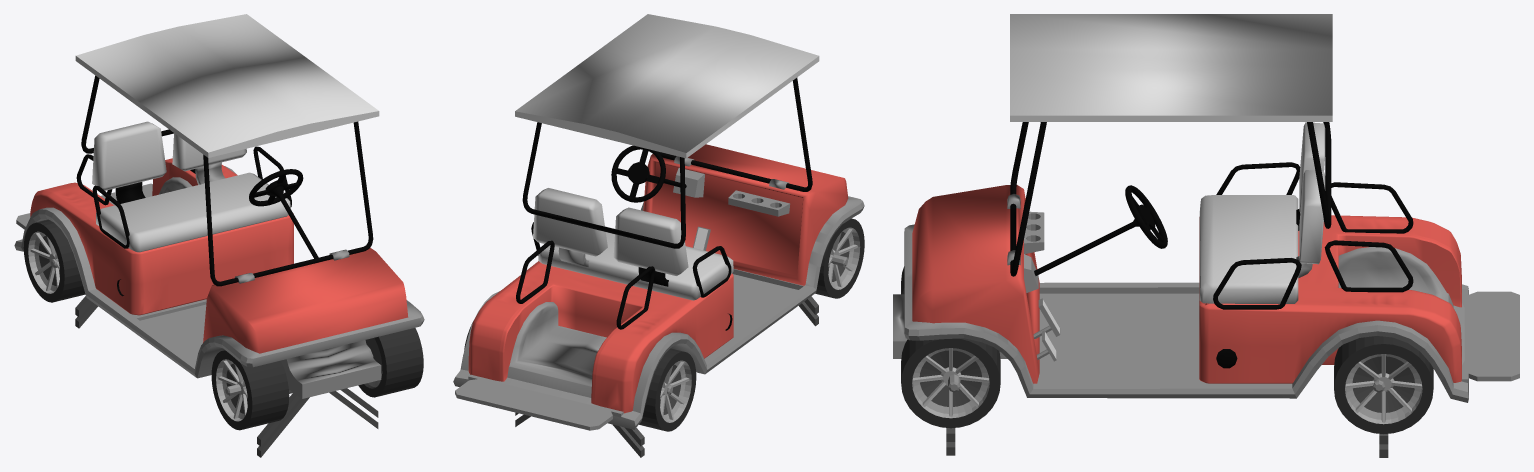
Rendered from car.glb.
3 views of the same model, side by side, from view 1: azimuth 30°, elevation 25°; view 2: azimuth 150°, elevation 25°; view 3: azimuth 270°, elevation 25° (orthographic). The views are drawn at different scales.
Visible parts, largest first — view 1: Cart 1_Material.001_0, Cart 1_White Material_0, Cart 1_Black Material 2_0, Cart 1_leather_0, Cart 1_Black Material_0, WheelFR, WheelBR, WheelFL, SuspensionFR, SuspensionFL, SuspensionBR; view 2: Cart 1_Material.001_0, Cart 1_White Material_0, Cart 1_Black Material 2_0, Cart 1_leather_0, Cart 1_Black Material_0, WheelBR, WheelFR, SuspensionBR; view 3: Cart 1_Black Material 2_0, Cart 1_Material.001_0, Cart 1_White Material_0, Cart 1_leather_0, Cart 1_Black Material_0, WheelBL, WheelFL.
Boxes of the visible parts, bbox=[...] form: Cart 1_Material.001_0: bbox=[30, 158, 408, 353]; Cart 1_White Material_0: bbox=[75, 14, 379, 157]; Cart 1_Black Material 2_0: bbox=[14, 162, 424, 398]; Cart 1_leather_0: bbox=[92, 121, 290, 252]; Cart 1_Black Material_0: bbox=[76, 75, 373, 296]; WheelFR: bbox=[211, 350, 289, 430]; WheelBR: bbox=[23, 219, 85, 302]; WheelFL: bbox=[358, 328, 423, 397]; SuspensionFR: bbox=[257, 393, 309, 457]; SuspensionFL: bbox=[329, 388, 378, 428]; SuspensionBR: bbox=[75, 296, 97, 328]; Cart 1_Material.001_0: bbox=[468, 144, 848, 413]; Cart 1_White Material_0: bbox=[515, 14, 819, 158]; Cart 1_Black Material 2_0: bbox=[453, 156, 864, 430]; Cart 1_leather_0: bbox=[533, 188, 733, 300]; Cart 1_Black Material_0: bbox=[516, 77, 812, 330]; WheelBR: bbox=[639, 348, 696, 431]; WheelFR: bbox=[815, 218, 864, 298]; SuspensionBR: bbox=[613, 424, 644, 457]; Cart 1_Black Material 2_0: bbox=[893, 194, 1519, 402]; Cart 1_Material.001_0: bbox=[912, 185, 1461, 383]; Cart 1_White Material_0: bbox=[1010, 14, 1332, 121]; Cart 1_leather_0: bbox=[1199, 122, 1325, 303]; Cart 1_Black Material_0: bbox=[1010, 122, 1413, 368]; WheelBL: bbox=[1334, 336, 1433, 433]; WheelFL: bbox=[901, 338, 1000, 428].
Size of what is drawn, in the model's own units: 1.79 by 2.65 by 4.16.
